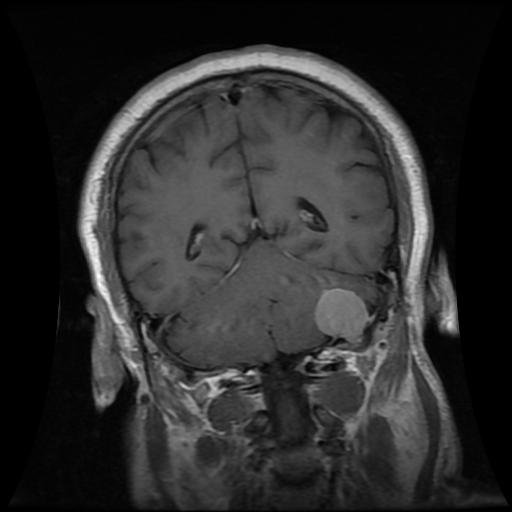Menigiomia_tumour: (315, 288, 372, 340)
